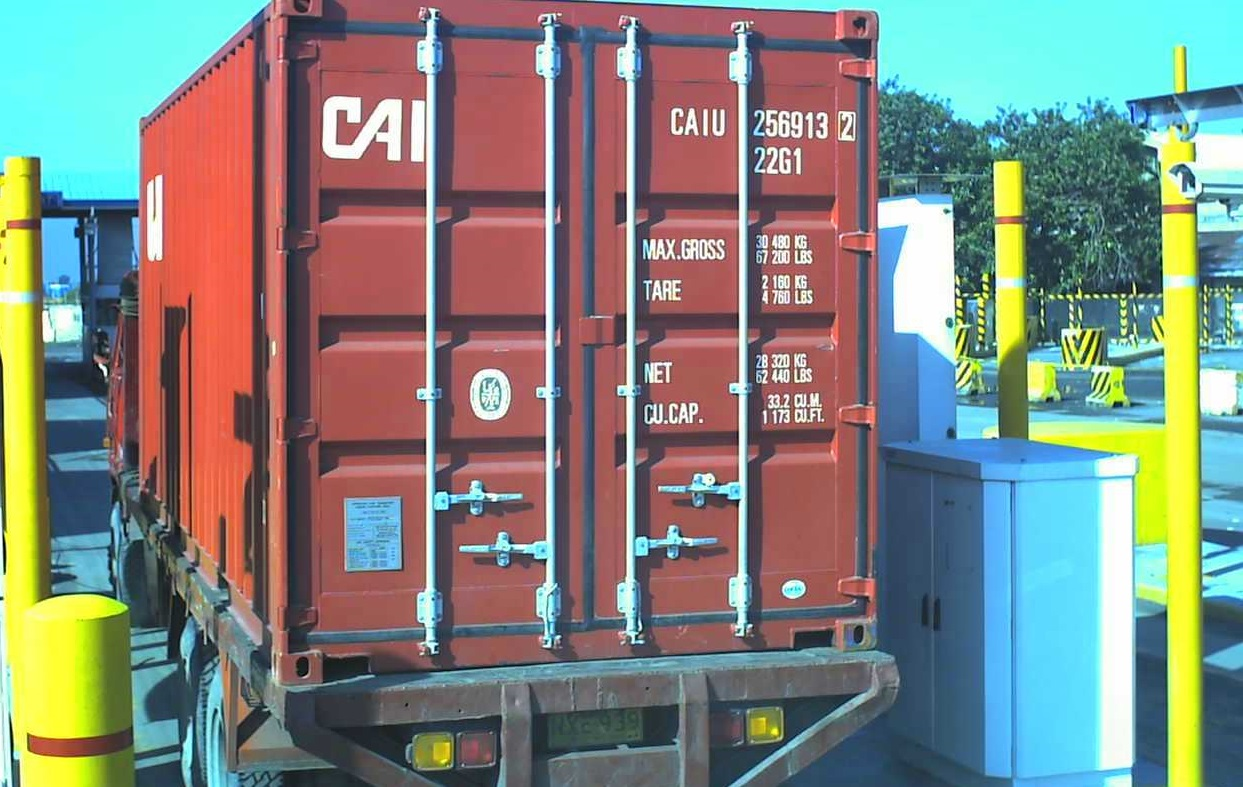container_door: (273, 2, 883, 681)
